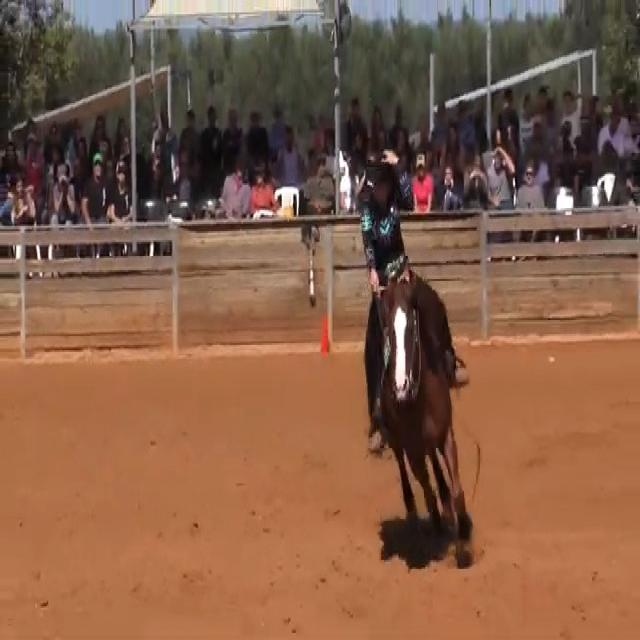horse: (363, 268, 475, 564)
